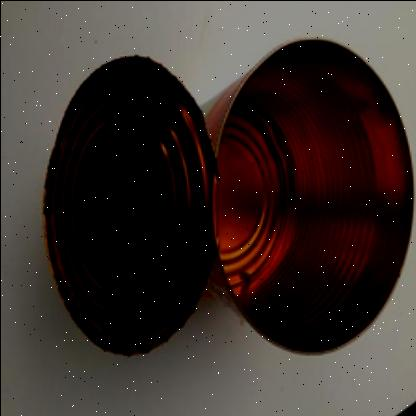Can: (204, 35, 414, 354), (42, 53, 216, 355)
